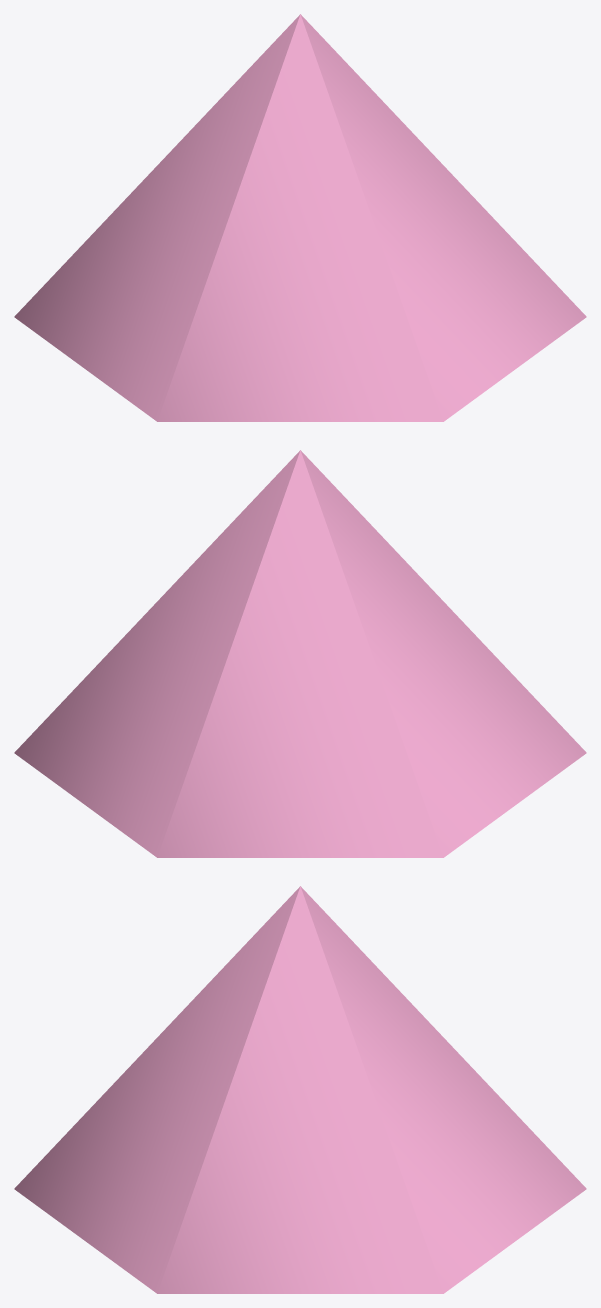
File: flower-cluster.gltf
3 renders of one model, top to bottom at view 1: azimuth 30°, elevation 25°; view 2: azimuth 150°, elevation 25°; view 3: azimuth 270°, elevation 25°, orthographic.
Parts seen in each view (by area): view 1: Flowers; view 2: Flowers; view 3: Flowers.
Part boxes in pixels (x1,y1,x2,y2): Flowers: [14, 14, 586, 421]; Flowers: [14, 450, 586, 857]; Flowers: [14, 886, 586, 1293].
Bounding box in the file's own units: 0.5196 × 0.35 × 0.6.
